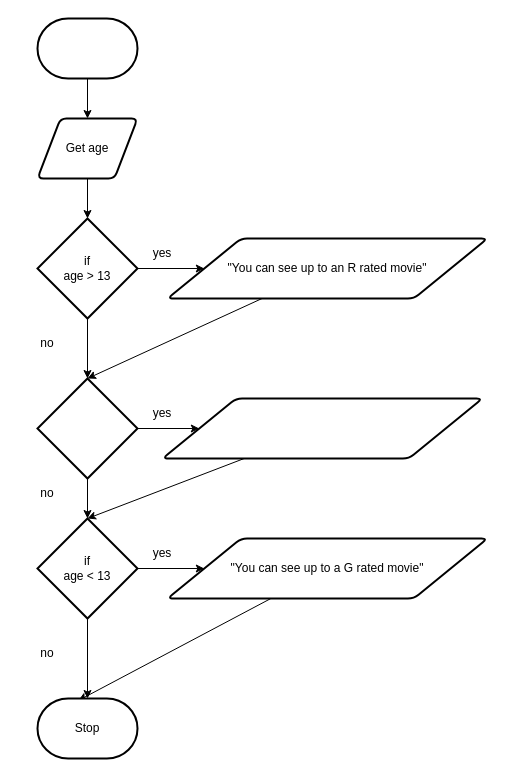
Image size: 505x776. Some labels were removed from this diagram. Each missing label, with the box of its shape:
"You can see up to a Pg 13 rated movie": (161, 397, 483, 459)
if age == 13: (36, 377, 138, 479)
Start: (36, 17, 138, 79)
